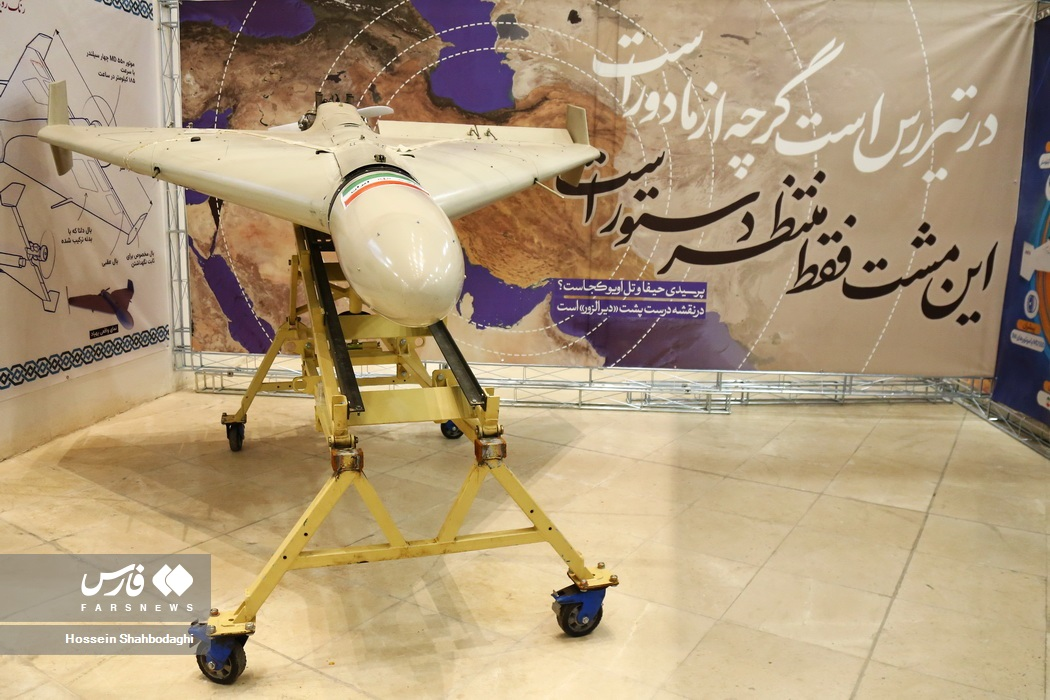shahed: (39, 80, 601, 328)
